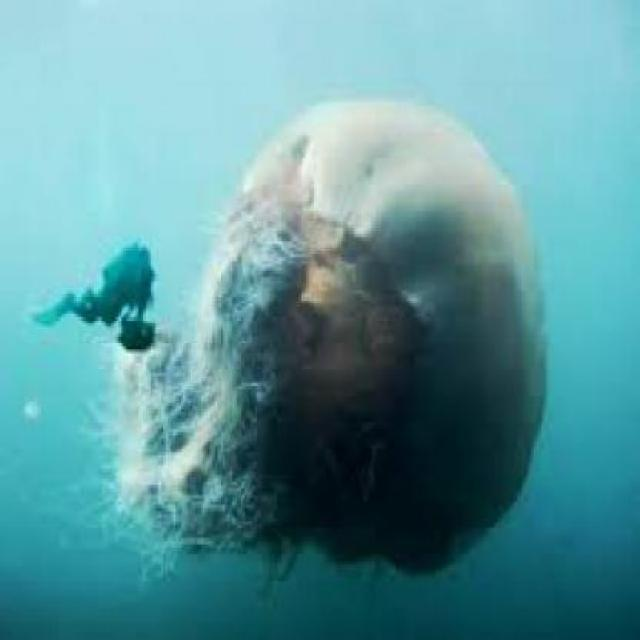Jellyfish: (104, 95, 552, 588)
